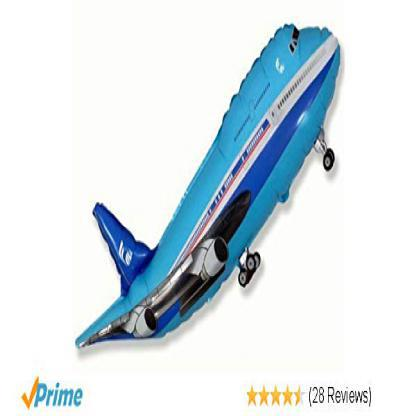CIV_Plane: (74, 19, 342, 354)
